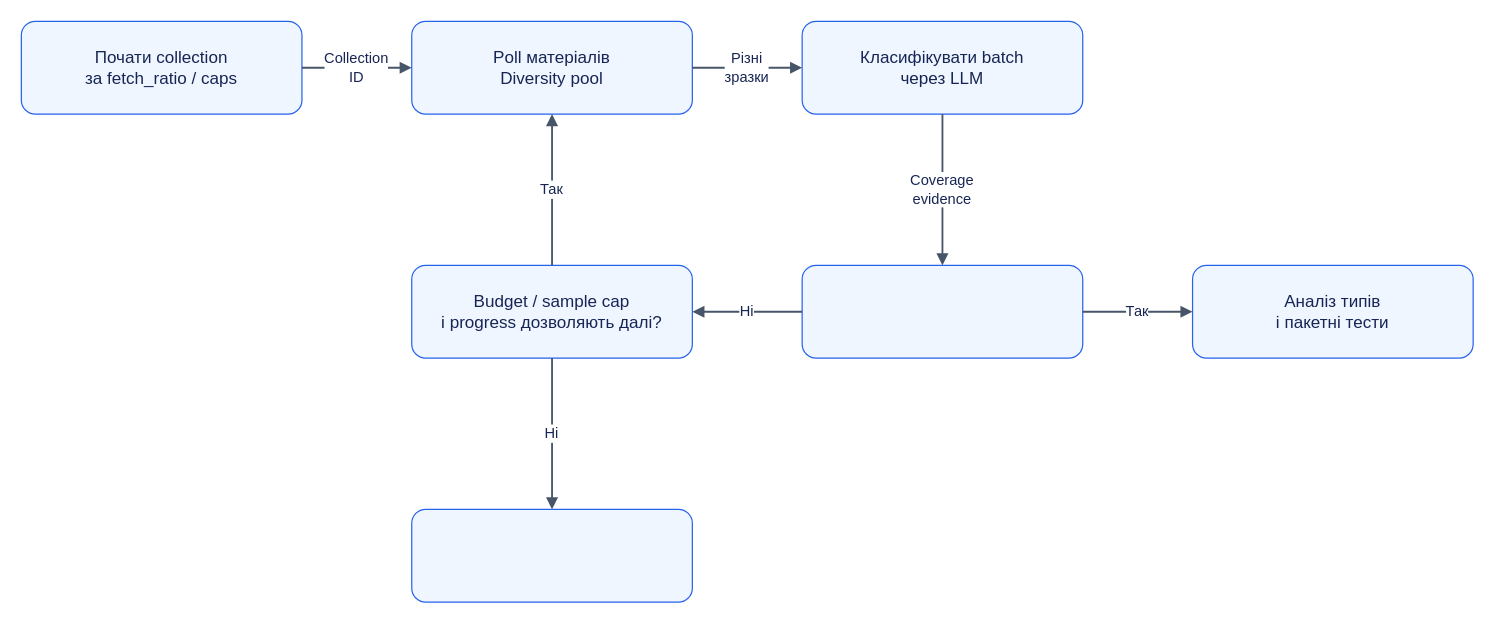
The diagram is 1495 pixels wide and 623 high, and some of its shapes have lost their labels. Each missing label, with the centre of its shape:
"Confidence достатній і типи представлені?" goes at (942,311).
"insufficient_sample" goes at (551,555).
